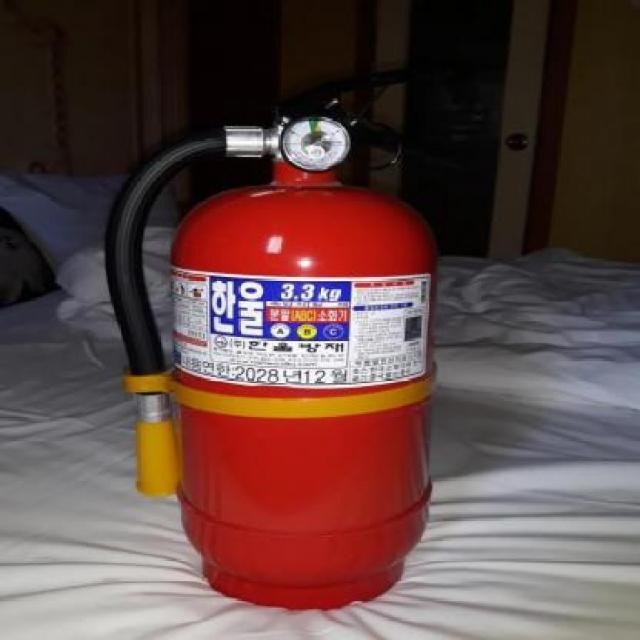fire extinguisher: (105, 69, 457, 609)
